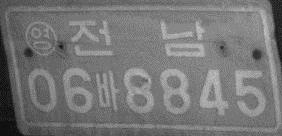0: (27, 66, 57, 113)
4: (198, 68, 229, 117)
5: (234, 68, 266, 117)
6: (61, 67, 94, 114)
8: (158, 66, 192, 115), (122, 65, 155, 114)
바: (95, 68, 121, 112)
영: (23, 20, 57, 56)
전남_D: (67, 18, 208, 59)
